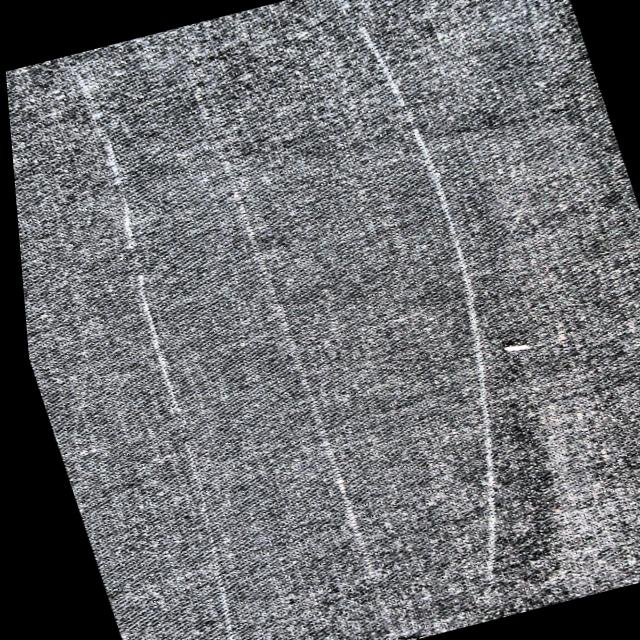Hole: (288, 436, 395, 573)
